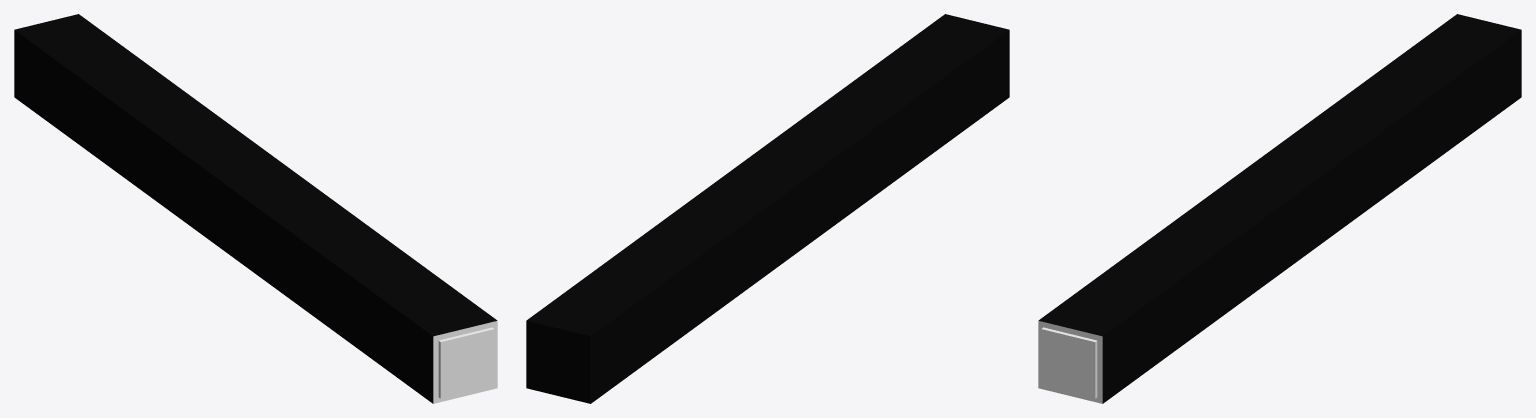
File: Win Level.fbx
3 views of the same model, side by side, from view 1: azimuth 30°, elevation 25°; view 2: azimuth 150°, elevation 25°; view 3: azimuth 330°, elevation 25° (orthographic).
Visible parts, largest first — view 1: Hallway, White Light; view 2: Hallway; view 3: Hallway, White Light.
Part boxes in pixels (x1=…): Hallway: x1=14, y1=14, x2=497, y2=403; White Light: x1=438, y1=327, x2=494, y2=398; Hallway: x1=526, y1=14, x2=1009, y2=403; Hallway: x1=1038, y1=14, x2=1521, y2=403; White Light: x1=1041, y1=327, x2=1097, y2=398.
Size of the model in its own units: 1000 by 1000 by 11303.
